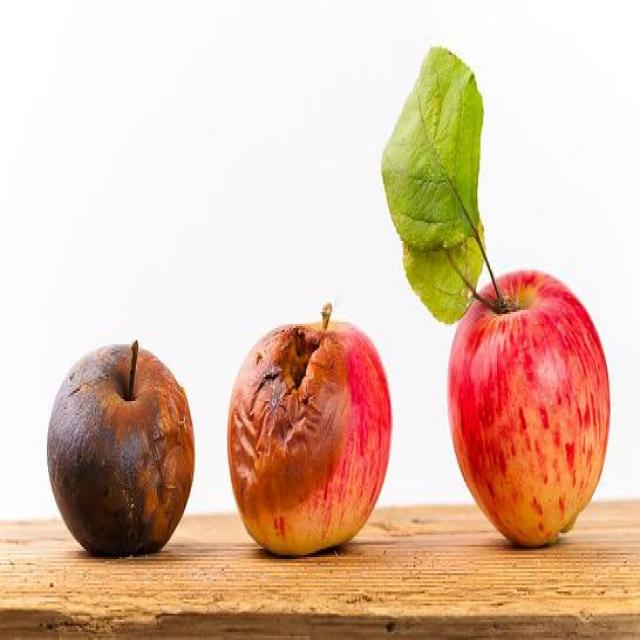fresh_apple: (446, 268, 612, 546)
rotten_apple: (228, 318, 391, 559), (46, 341, 197, 564)
